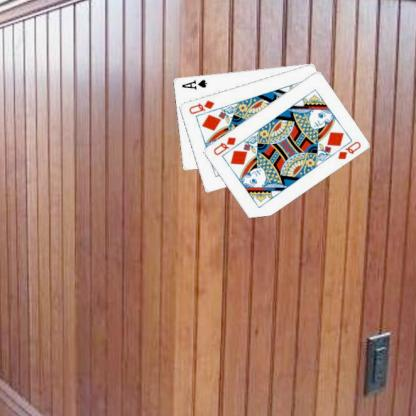AS: (180, 76, 210, 90)
QD: (336, 138, 364, 161), (212, 134, 239, 156), (188, 96, 217, 115)
